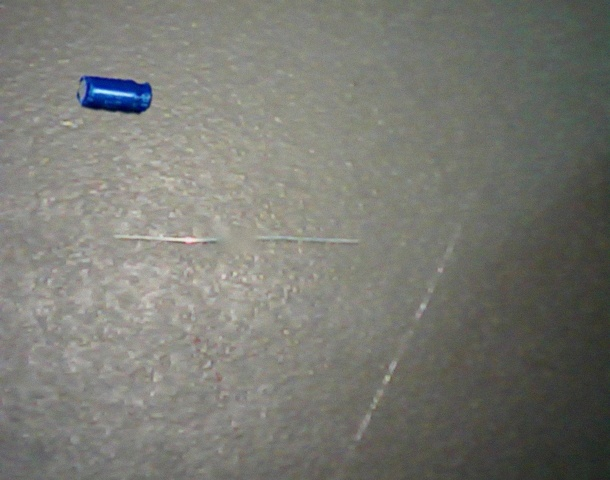capacitor: (76, 75, 153, 114)
